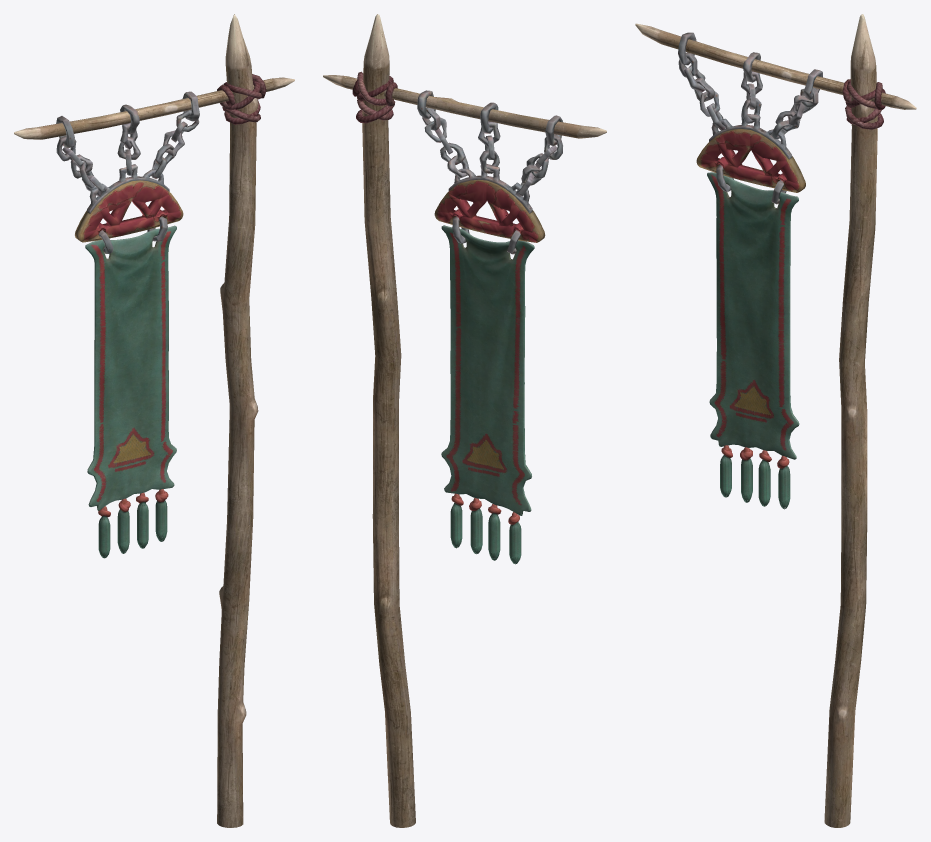
The picture shows the model from 3 angles, left to right: view 1: azimuth 30°, elevation 25°; view 2: azimuth 150°, elevation 25°; view 3: azimuth 330°, elevation 25°; orthographic projection.
Parts seen in each view (by area): view 1: SM_Moon_Garou_Banner_01v1_LOD0; view 2: SM_Moon_Garou_Banner_01v1_LOD0; view 3: SM_Moon_Garou_Banner_01v1_LOD0.
Boxes of the visible parts, bbox=[...] form: SM_Moon_Garou_Banner_01v1_LOD0: bbox=[14, 14, 294, 827]; SM_Moon_Garou_Banner_01v1_LOD0: bbox=[323, 14, 606, 827]; SM_Moon_Garou_Banner_01v1_LOD0: bbox=[635, 14, 916, 827].
Size of the model in its own units: 3.88 by 10.57 by 0.6062.
Materials: 2 (2 with a texture image).
